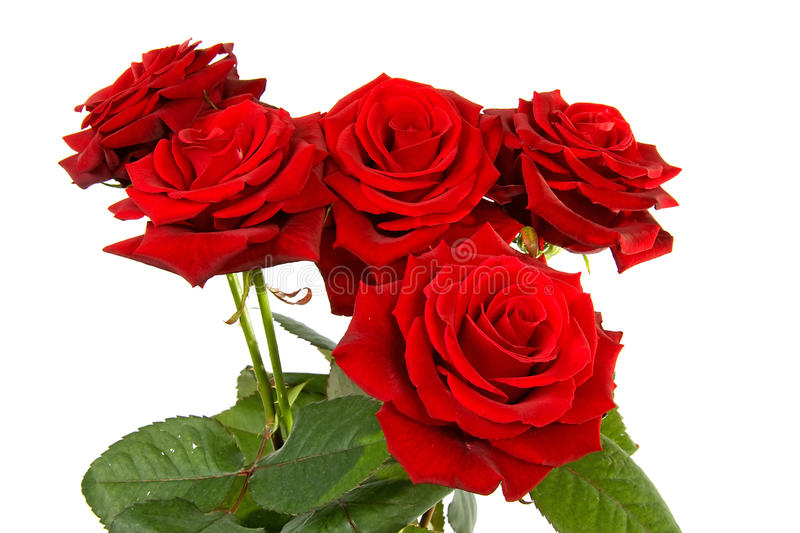RedRose: (326, 246, 634, 504), (102, 90, 347, 298), (309, 50, 504, 280), (49, 26, 282, 198), (507, 67, 691, 272)
